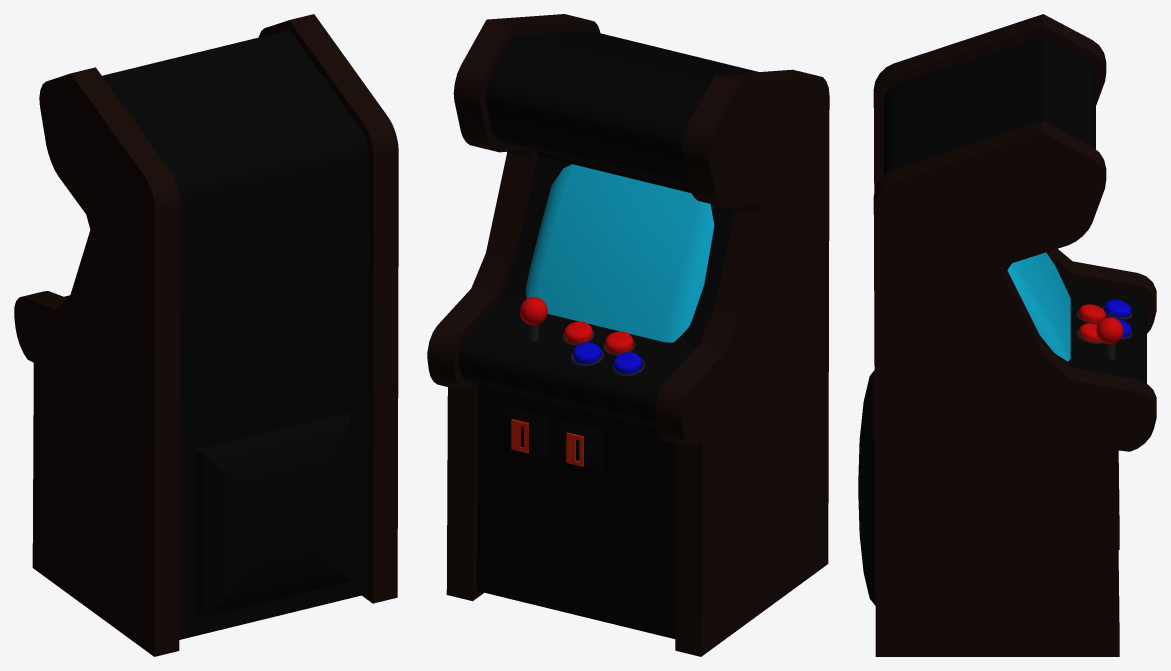
The model's file is arcade-cabinet.obj.
3 renders of one model, left to right at view 1: azimuth 30°, elevation 25°; view 2: azimuth 150°, elevation 25°; view 3: azimuth 270°, elevation 25°, orthographic. The views are drawn at different scales.
Visible parts, largest first — view 1: Cube.002, Cube, Cube.001; view 2: Cube.002, Cube, Cube.003, Cube.006, Cube.007, Cylinder.004, Cylinder.005, Sphere; view 3: Cube.002, Cube, Cube.003, Cube.001, Cylinder.004, Sphere, Cylinder.005.
Boxes of the visible parts, left/top/right/bottom form: Cube.002: left=14, top=14, right=398, bottom=656; Cube: left=64, top=30, right=368, bottom=639; Cube.001: left=196, top=413, right=350, bottom=618; Cube.002: left=427, top=14, right=829, bottom=656; Cube: left=459, top=30, right=758, bottom=638; Cube.003: left=525, top=164, right=714, bottom=342; Cube.006: left=498, top=405, right=548, bottom=465; Cube.007: left=553, top=419, right=603, bottom=478; Cylinder.004: left=564, top=321, right=633, bottom=353; Cylinder.005: left=572, top=342, right=641, bottom=374; Sphere: left=519, top=297, right=547, bottom=325; Cube.002: left=873, top=14, right=1156, bottom=656; Cube: left=883, top=36, right=1146, bottom=383; Cube.003: left=1007, top=252, right=1070, bottom=361; Cube.001: left=858, top=370, right=875, bottom=605; Cylinder.004: left=1078, top=304, right=1105, bottom=342; Sphere: left=1096, top=317, right=1123, bottom=344; Cylinder.005: left=1104, top=299, right=1131, bottom=337.
Size of the model in its own units: 2.09 by 4.27 by 2.2.
